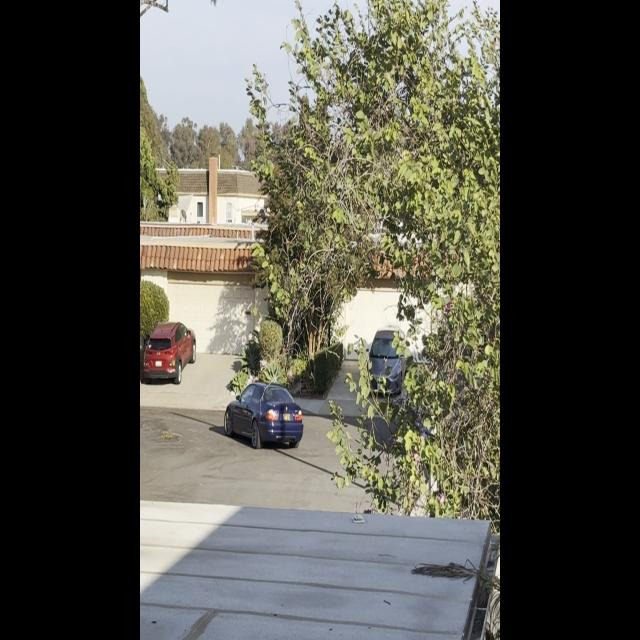Carbeetle: (222, 374, 306, 456)
Civilian: (140, 318, 199, 383), (363, 320, 409, 403)
